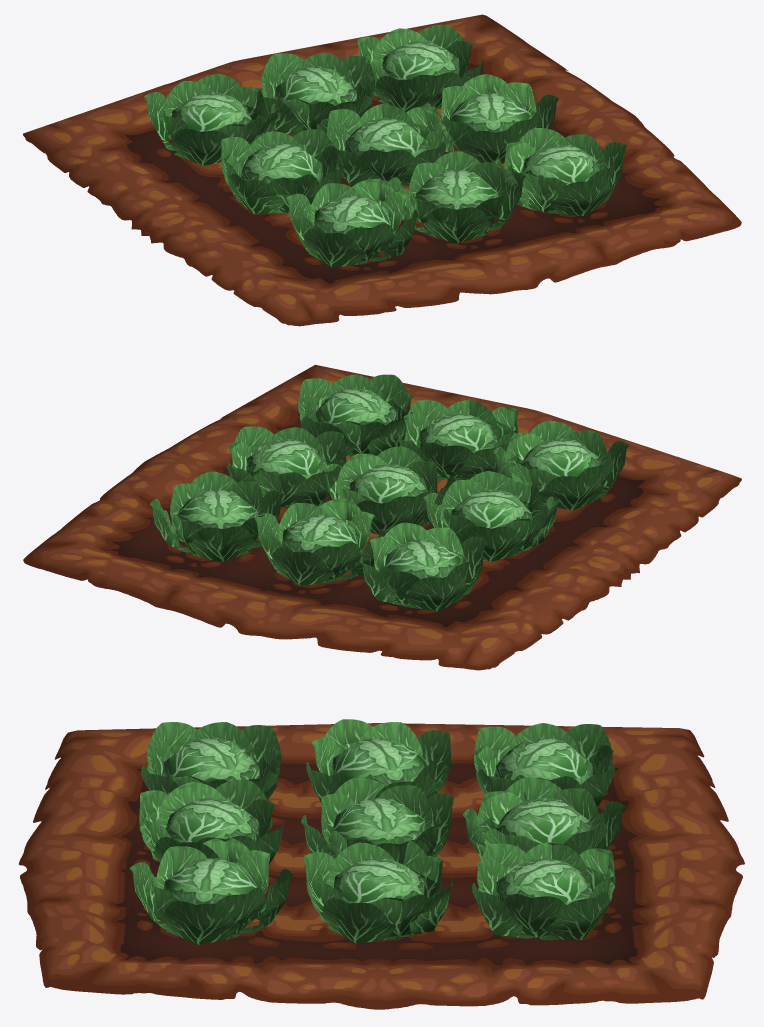
Rendered from Cabbage_Field_Green_Lv3.FBX.
3 renders of one model, top to bottom at view 1: azimuth 30°, elevation 25°; view 2: azimuth 150°, elevation 25°; view 3: azimuth 270°, elevation 25°, orthographic. The views are drawn at different scales.
Parts seen in each view (by area): view 1: Cabbage_Field_Green_Lv3; view 2: Cabbage_Field_Green_Lv3; view 3: Cabbage_Field_Green_Lv3.
Boxes of the visible parts, left/top/right/bottom form: Cabbage_Field_Green_Lv3: left=23, top=14, right=741, bottom=326; Cabbage_Field_Green_Lv3: left=23, top=364, right=741, bottom=670; Cabbage_Field_Green_Lv3: left=18, top=719, right=744, bottom=1009.
Bounding box in the file's own units: 274 × 30.47 × 296.
